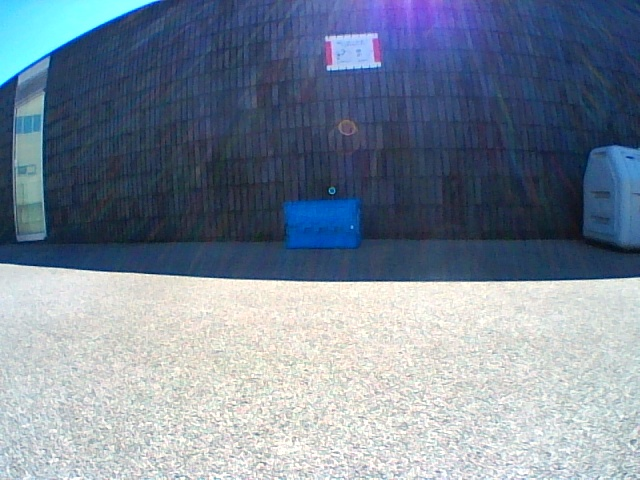blue_box: (284, 199, 358, 250)
